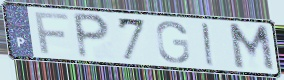7: (114, 16, 149, 61)
F: (32, 10, 71, 56)
G: (154, 20, 192, 65)
I: (200, 21, 217, 68)
M: (226, 22, 278, 74)
P: (71, 11, 112, 61)
